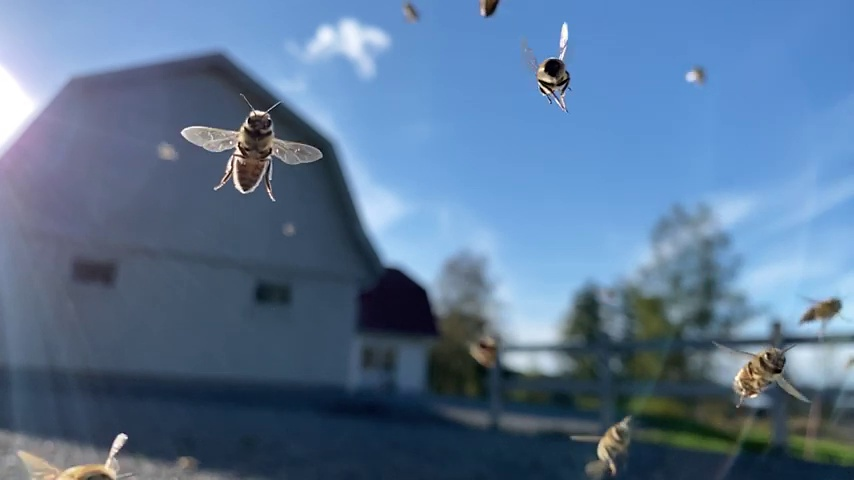insect: (178, 94, 323, 196), (712, 342, 808, 408), (563, 414, 640, 480), (522, 19, 574, 115), (792, 291, 851, 339)
